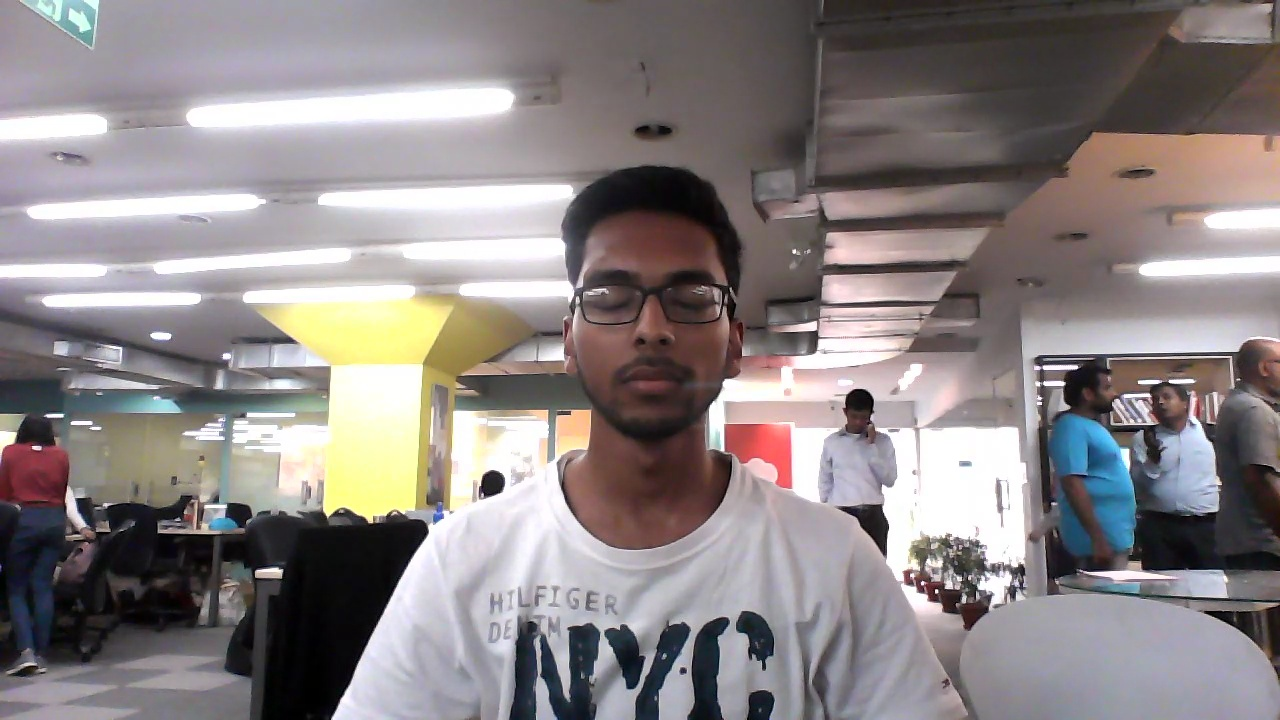closed: (559, 176, 750, 450)
